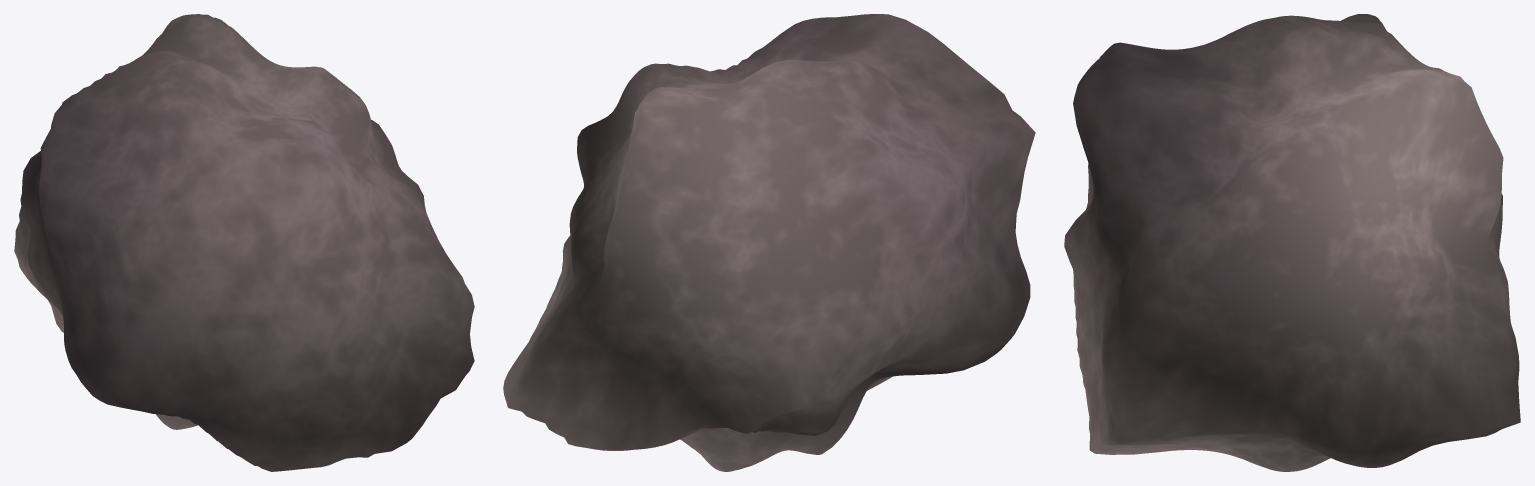
Rendered from asteroid-geode.glb.
3 views of the same model, side by side, from view 1: azimuth 30°, elevation 25°; view 2: azimuth 150°, elevation 25°; view 3: azimuth 270°, elevation 25° (orthographic). The views are drawn at different scales.
Parts seen in each view (by area): view 1: asteroid_1007; view 2: asteroid_1007; view 3: asteroid_1007.
Part boxes in pixels (x1,y1,x2,y2): asteroid_1007: [14, 14, 474, 471]; asteroid_1007: [503, 14, 1035, 471]; asteroid_1007: [1064, 14, 1520, 471].
Size of the model in its own units: 56.46 by 53.77 by 56.12.
1 material, 1 textured.
